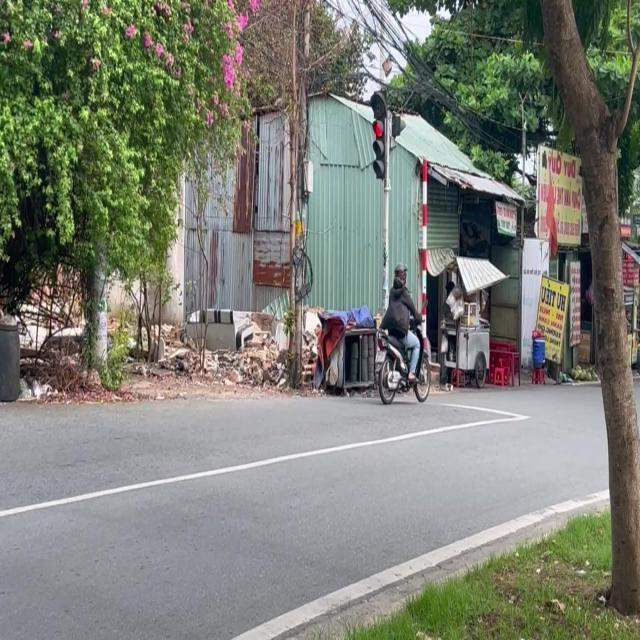red_light: (367, 92, 384, 180)
